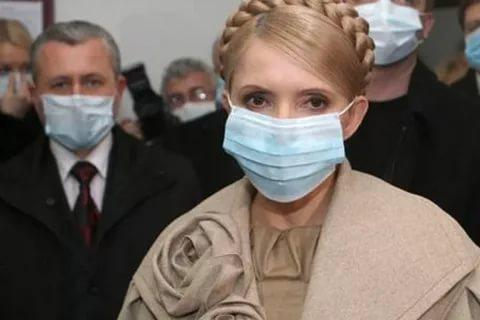mask: (224, 49, 360, 200), (34, 42, 123, 145), (1, 36, 34, 117), (163, 71, 213, 122)
